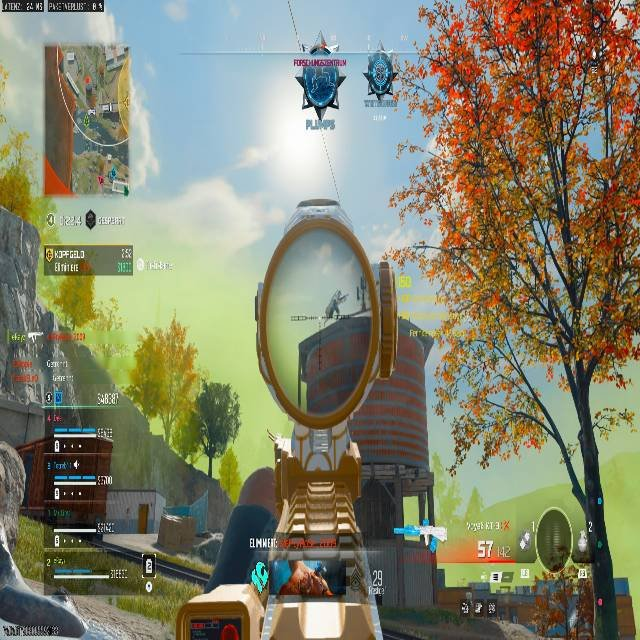head: (335, 289, 341, 297)
player: (324, 289, 347, 320)
